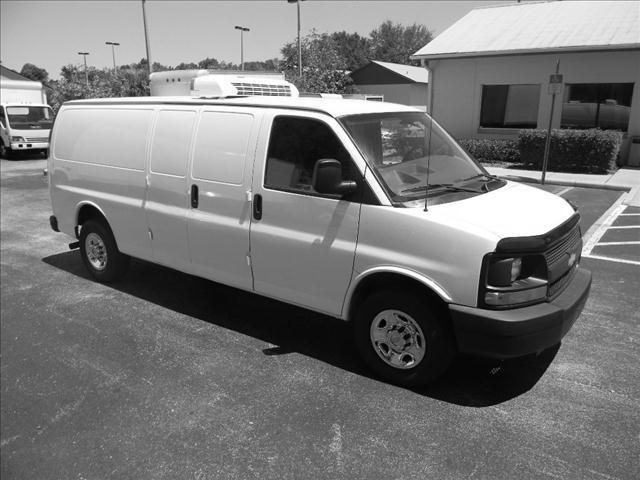car: (43, 85, 595, 390)
